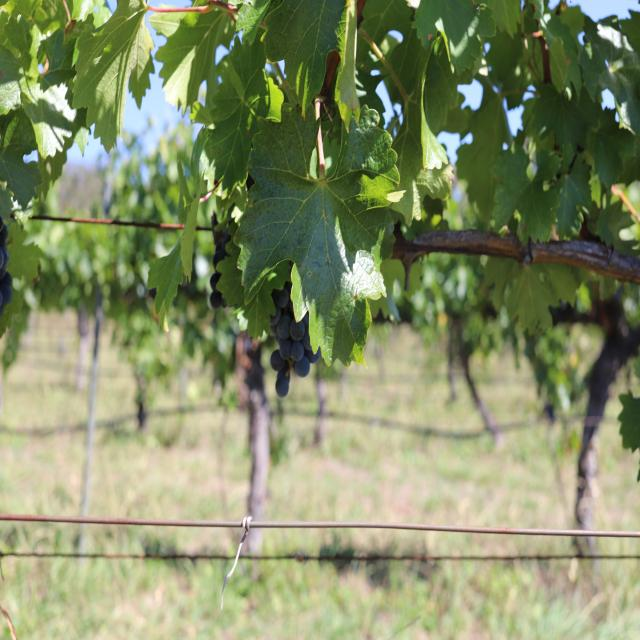grapes: (270, 282, 321, 397), (209, 232, 231, 309), (0, 216, 12, 316)
